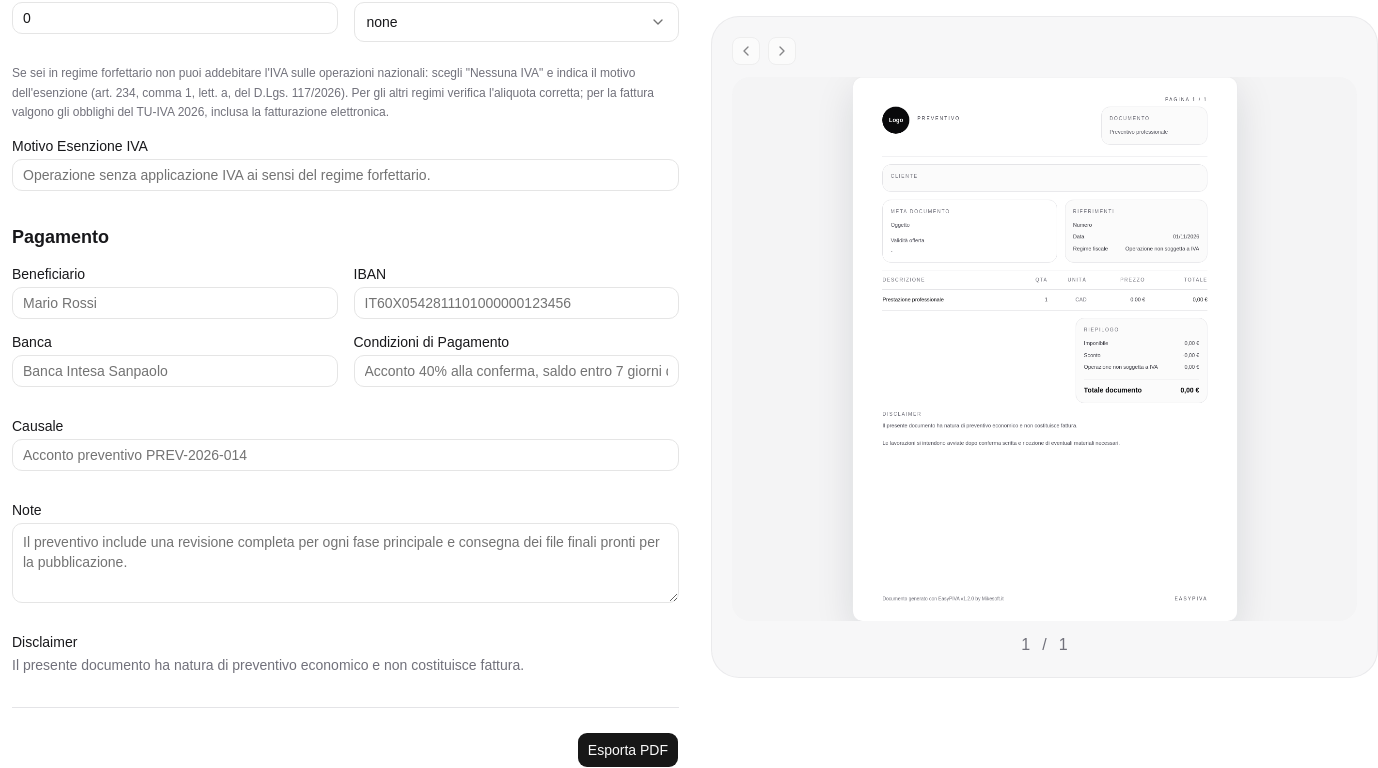
QuoteBuilder safe defaults › shows validation errors when export is blocked by invalid fields
(page scrolled)
Click the button with test id "quote-export-button" at (628, 750), box [577,732,679,767]
(page scrolled)
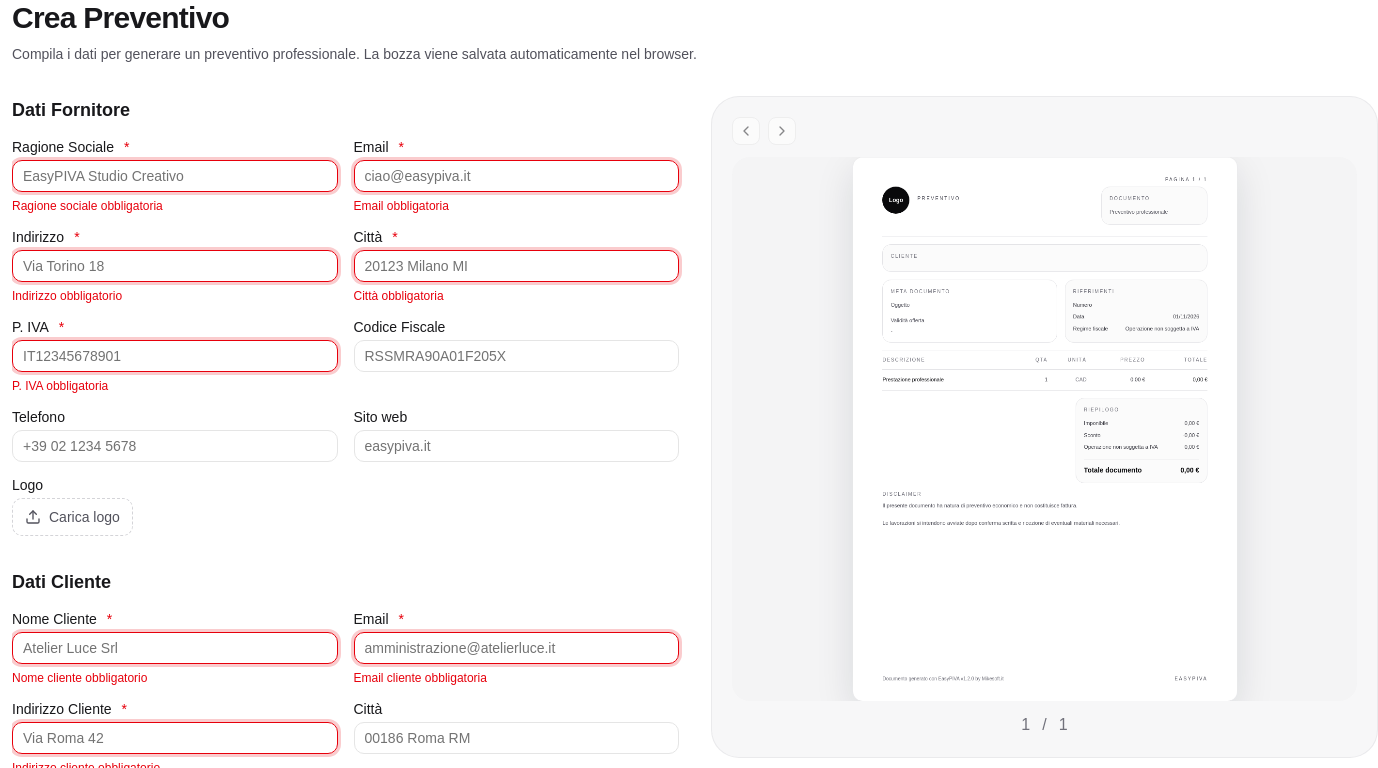
Now the text "Ragione sociale obbligatoria" is shown, box [12,199,163,213]
Now the text "Email obbligatoria" is shown, box [354,199,449,213]
Now the text "Nome cliente obbligatorio" is shown, box [12,671,147,685]
